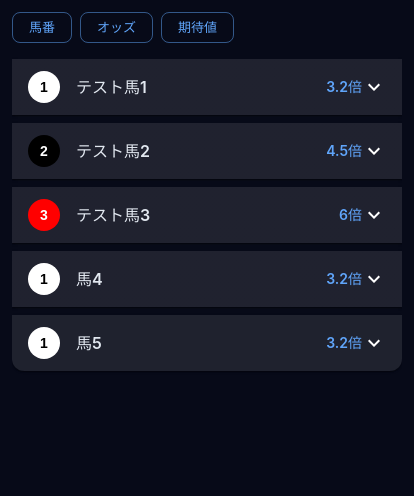
Scenario: RaceTableMobileView › 全ての評価タイプが正しく表示されること
Click the 1st icon with test id "ExpandMoreIcon" at (374, 87), box [362,75,386,99]
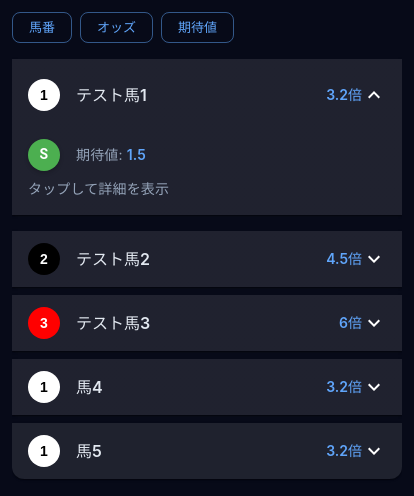
Expected: the text "S" is shown, [28,139,60,171]
